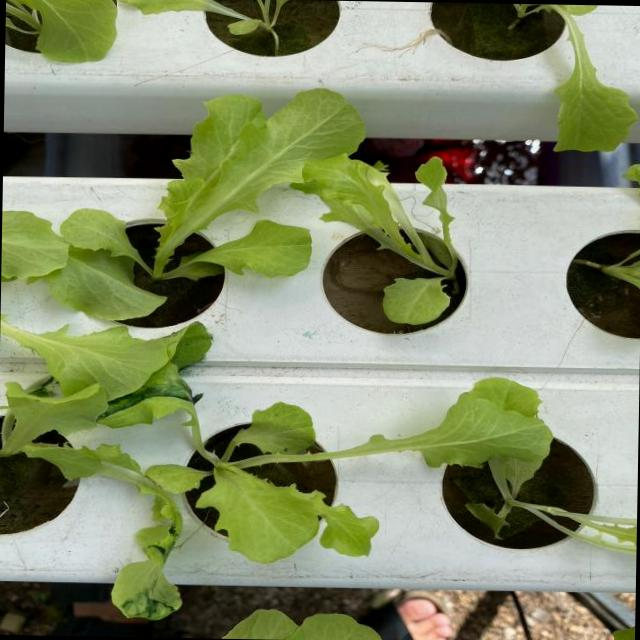Lettuce-Not-Ready-to-Harvest: (147, 378, 552, 561), (60, 90, 363, 278), (0, 382, 181, 619), (295, 155, 457, 324), (0, 318, 211, 414), (515, 3, 636, 150), (466, 458, 636, 552), (122, 0, 286, 54), (6, 0, 117, 61)
